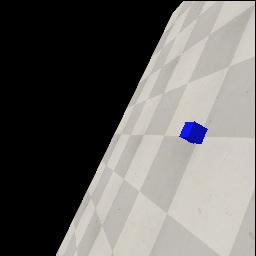box: (179, 121, 208, 144)
